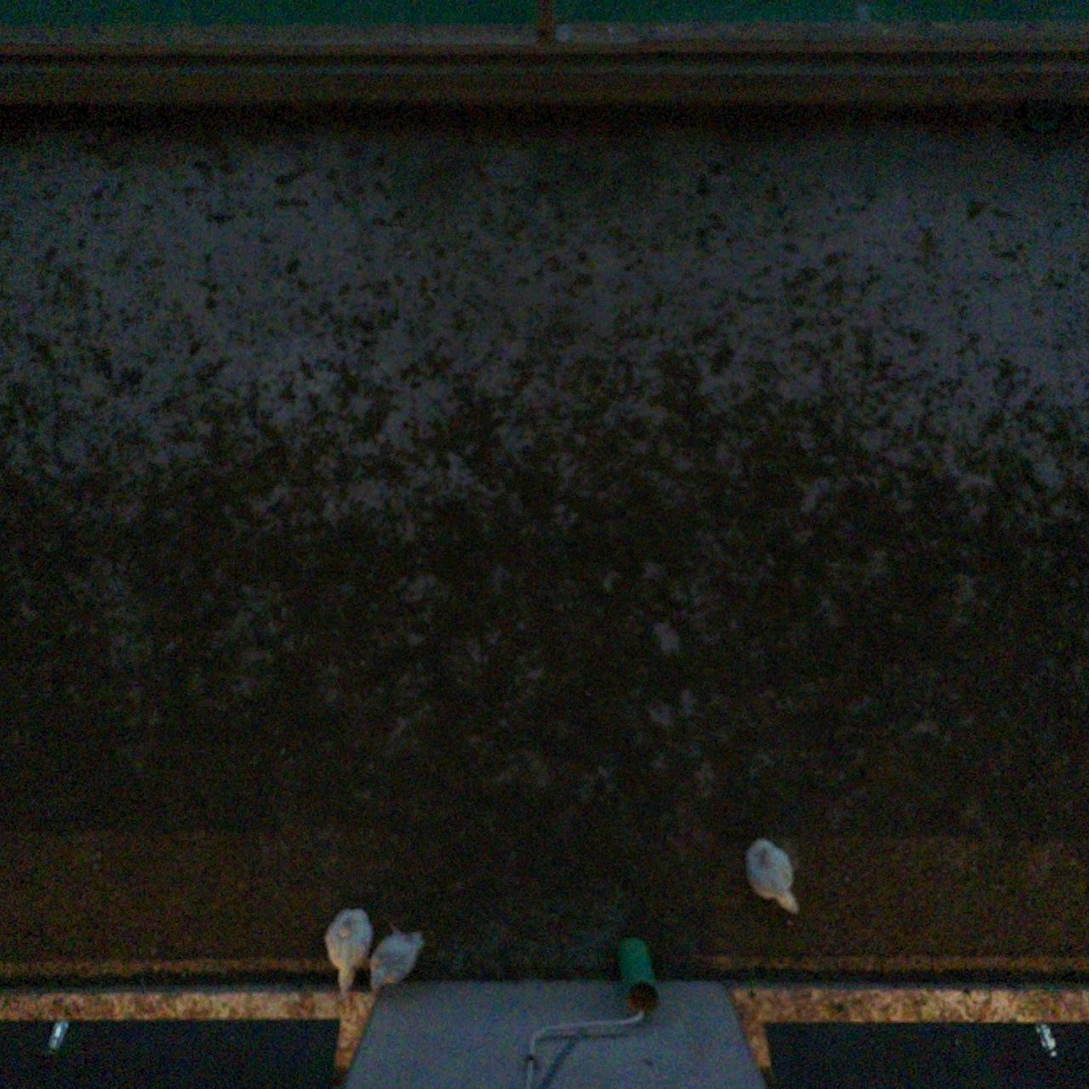chicken: (742, 831, 803, 915), (368, 925, 430, 1000), (325, 905, 373, 998)
